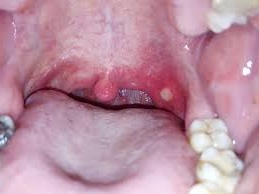Ulcer: (158, 87, 174, 99)
